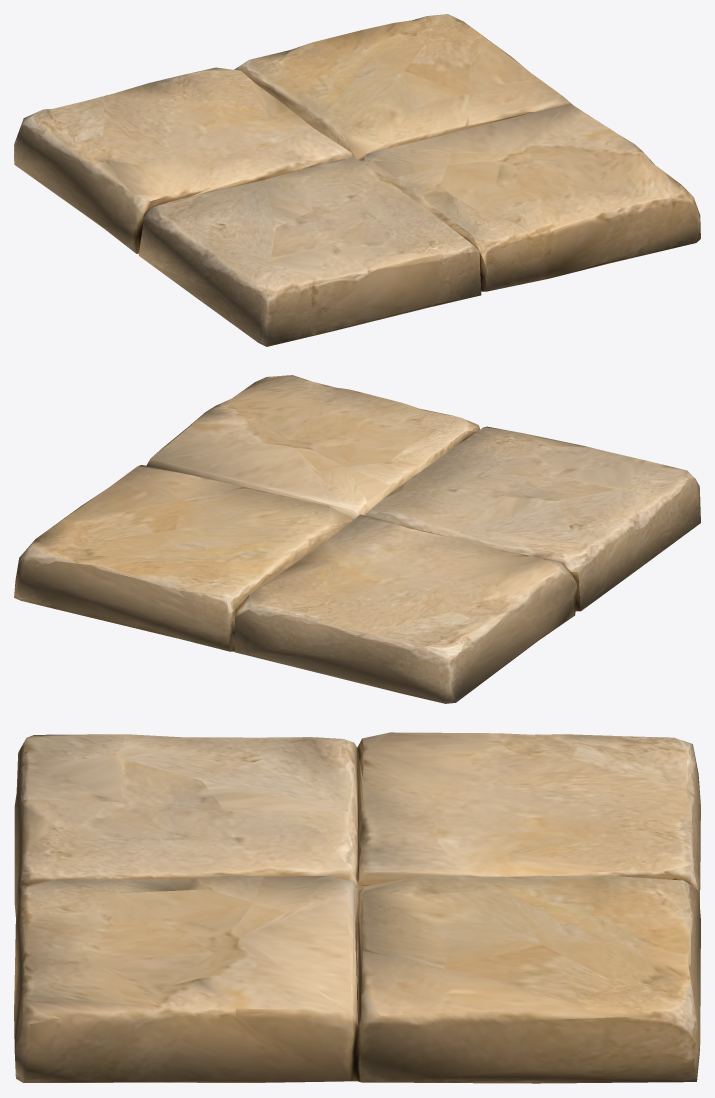
The model's file is paving_lod1.glb.
3 renders of one model, top to bottom at view 1: azimuth 30°, elevation 25°; view 2: azimuth 150°, elevation 25°; view 3: azimuth 270°, elevation 25°, orthographic. The views are drawn at different scales.
Parts seen in each view (by area): view 1: paving_lod1; view 2: paving_lod1; view 3: paving_lod1.
Part boxes in pixels (left/top/right/bottom): paving_lod1: left=14, top=14, right=700, bottom=346; paving_lod1: left=14, top=375, right=700, bottom=703; paving_lod1: left=14, top=732, right=700, bottom=1083.
Size of the model in its own units: 0.9887 by 0.118 by 0.9871.
1 material, 1 textured.
